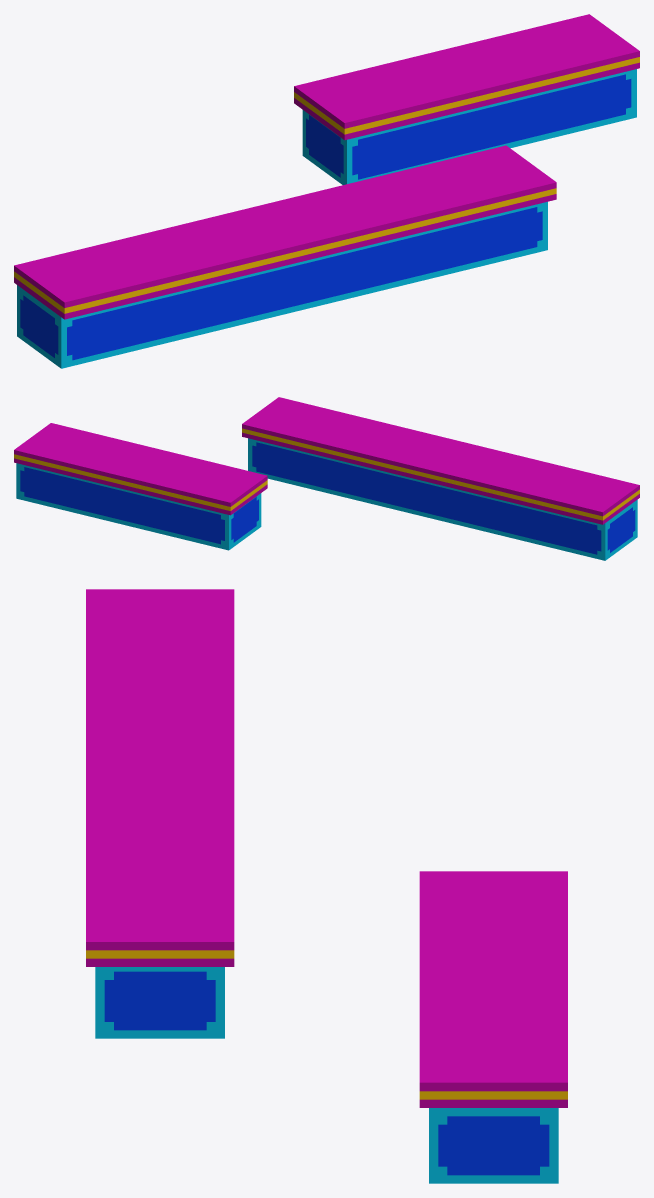
File: level_1.1.obj
The picture shows the model from 3 angles, top to bottom: view 1: azimuth 30°, elevation 25°; view 2: azimuth 150°, elevation 25°; view 3: azimuth 270°, elevation 25°; orthographic projection. The views are drawn at different scales.
Bounding box in the file's own units: 12.6 × 1.2 × 5.2.
1 material, 1 textured.
